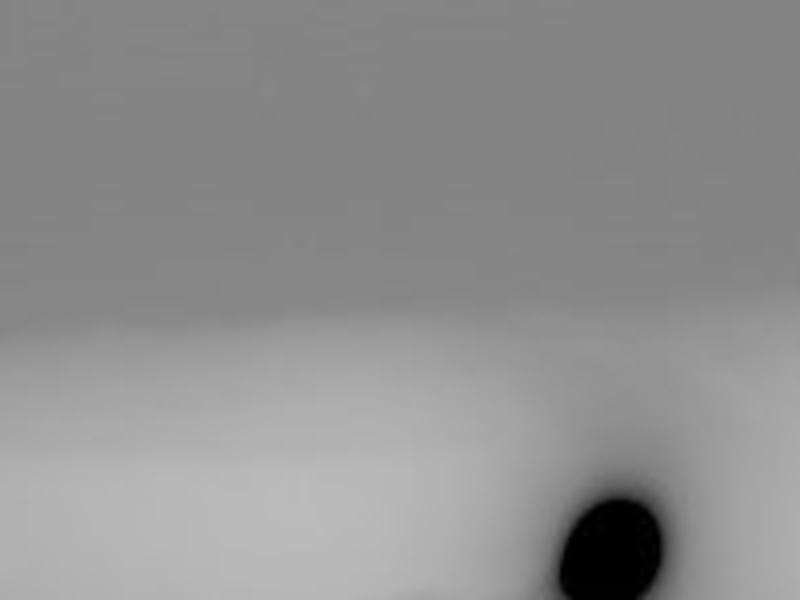defect: (555, 493, 667, 597)
